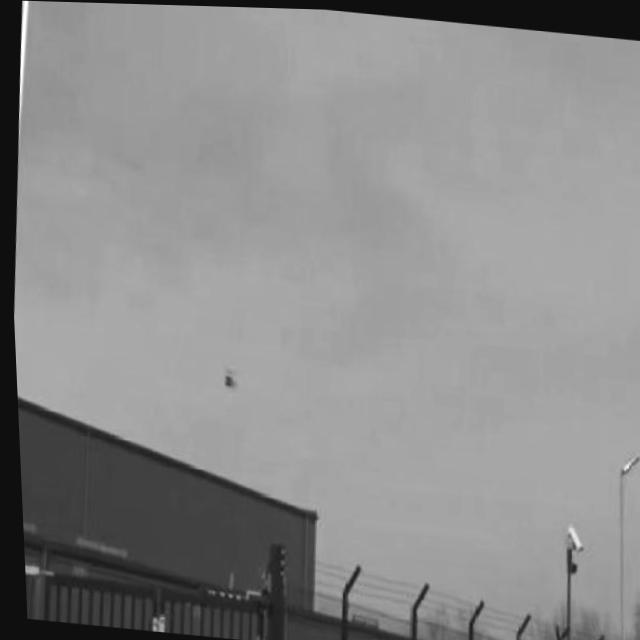helikopter: (215, 360, 236, 392)
